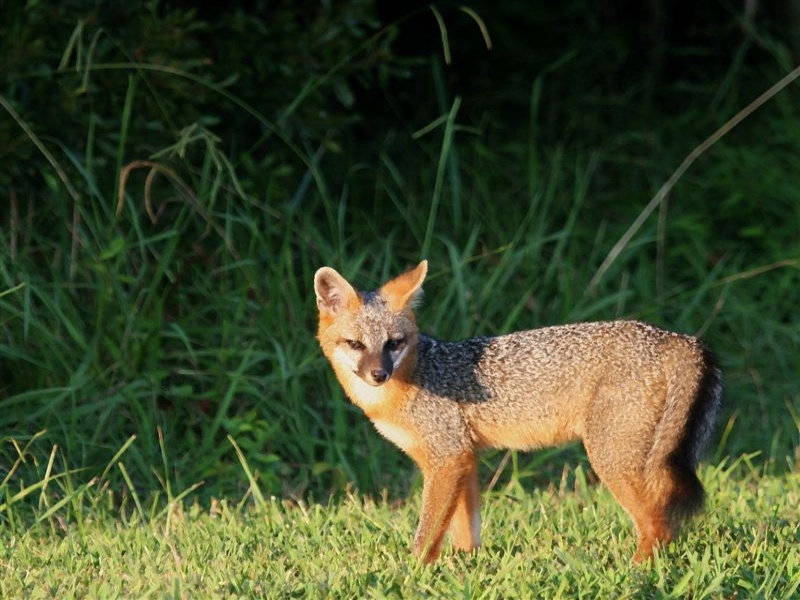fox: (308, 256, 723, 570)
